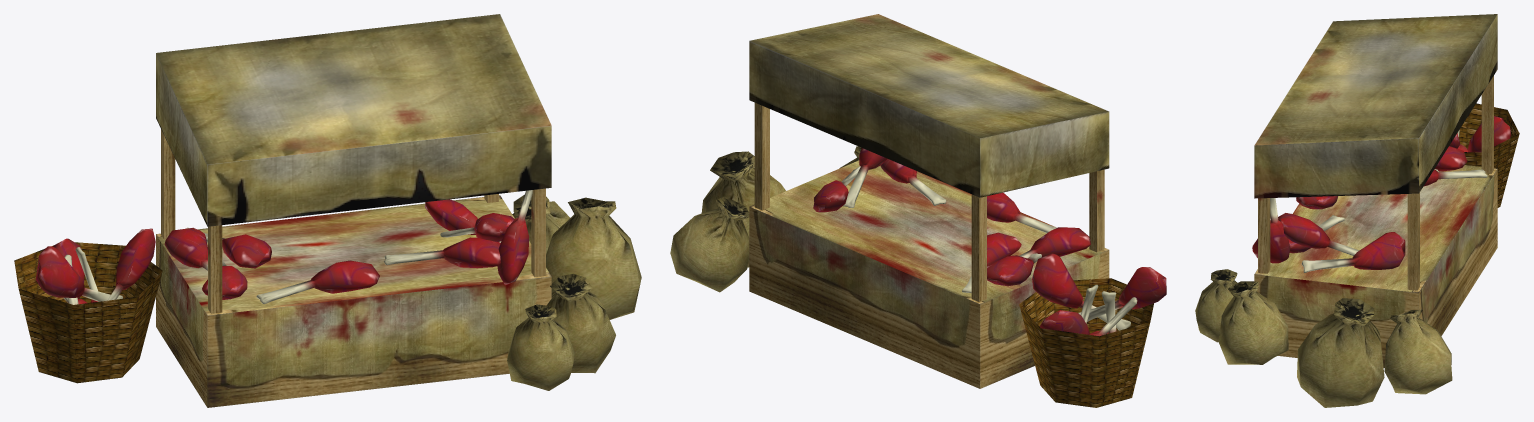
File: meat_store11.fbx
3 views of the same model, side by side, from view 1: azimuth 30°, elevation 25°; view 2: azimuth 150°, elevation 25°; view 3: azimuth 270°, elevation 25° (orthographic). The views are drawn at different scales.
Parts seen in each view (by area): view 1: stand_meat, basket, bag, bag_3, bag_2, meat_11, meat_2, meat_10, meat_9, meat_3, meat_13, meat_14 (+4 smaller); view 2: stand_meat, basket, bag_4, bag, meat_3, meat_2, meat_12, meat_13, meat_11, meat_8, meat_10, meat_14 (+2 smaller); view 3: stand_meat, bag, bag_2, bag_4, basket, meat_8, bag_3, meat_7, meat_9, meat, meat_13, meat_14 (+2 smaller).
Part boxes in pixels (x1,y1,x2,y2): stand_meat: (156, 14, 551, 407); basket: (14, 242, 162, 383); bag: (546, 197, 641, 319); bag_3: (507, 304, 574, 390); bag_2: (546, 274, 615, 373); meat_11: (256, 260, 379, 304); meat_2: (35, 246, 122, 301); meat_10: (384, 237, 500, 268); meat_9: (497, 190, 532, 285); meat_3: (107, 228, 155, 300); meat_13: (164, 227, 207, 270); meat_14: (186, 227, 271, 268); stand_meat: (749, 14, 1109, 388); basket: (1019, 278, 1153, 407); bag_4: (670, 197, 749, 292); bag: (701, 151, 785, 267); meat_3: (1032, 253, 1130, 330); meat_2: (1078, 267, 1166, 321); meat_12: (1019, 227, 1090, 258); meat_13: (987, 253, 1041, 286); meat_11: (987, 192, 1056, 233); meat_8: (813, 166, 860, 212); meat_10: (880, 159, 946, 205); meat_14: (962, 232, 1021, 293); stand_meat: (1254, 14, 1497, 367); bag: (1297, 298, 1384, 407); bag_2: (1218, 281, 1288, 364); bag_4: (1384, 309, 1452, 394); basket: (1459, 103, 1519, 207); meat_8: (1301, 232, 1405, 272); bag_3: (1195, 269, 1237, 342); meat_7: (1278, 213, 1359, 255); meat_9: (1252, 198, 1290, 263); meat: (1467, 115, 1511, 152); meat_13: (1435, 146, 1467, 171); meat_14: (1423, 169, 1487, 186).
Bounding box in the file's own units: 117 × 58.16 × 70.23.
